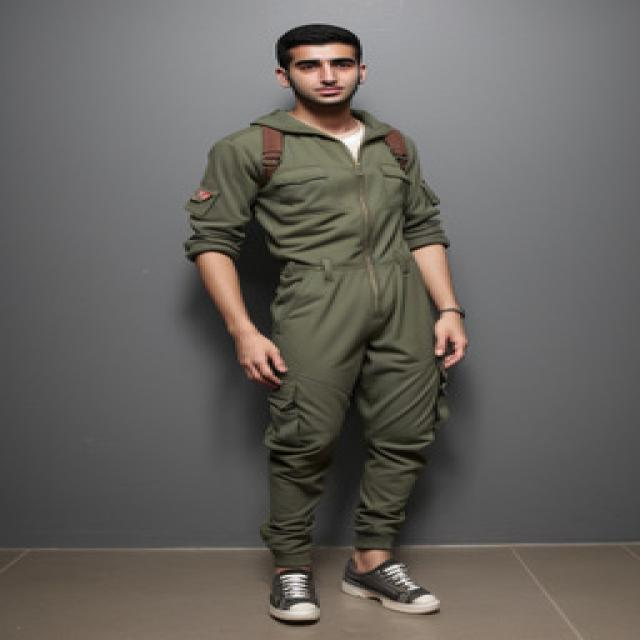Ai human 2: (171, 17, 505, 627)
